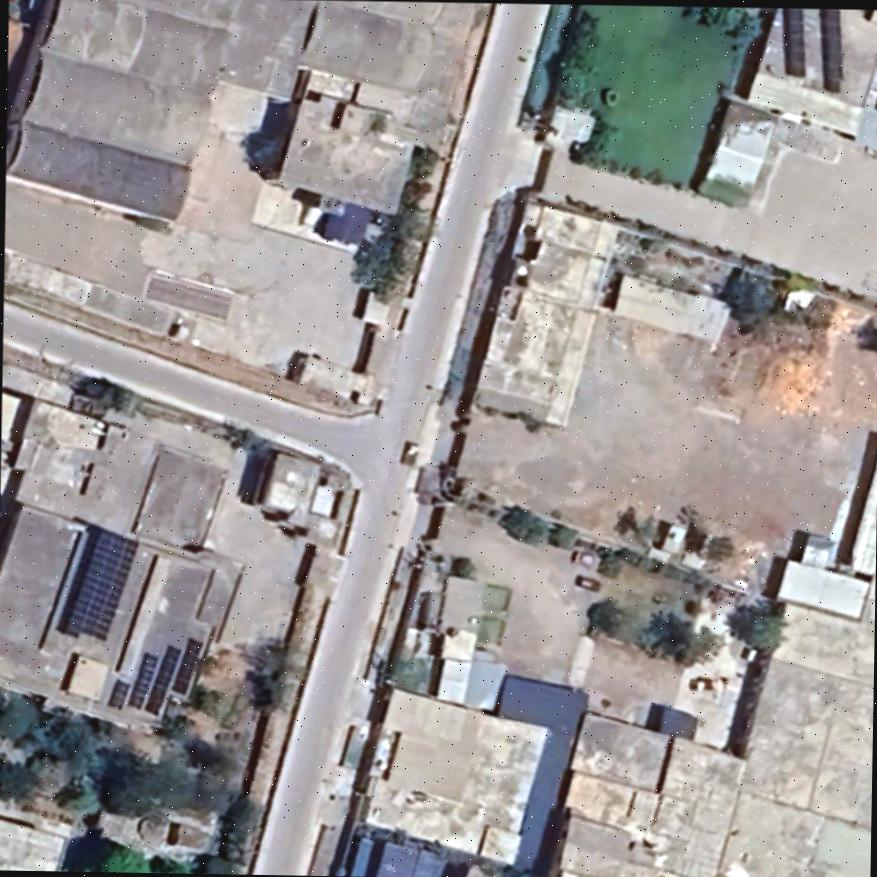Solarpanel: (62, 522, 142, 642), (141, 641, 181, 717), (166, 633, 205, 697), (815, 7, 843, 93), (122, 649, 158, 712), (777, 6, 807, 79), (102, 677, 130, 711)
